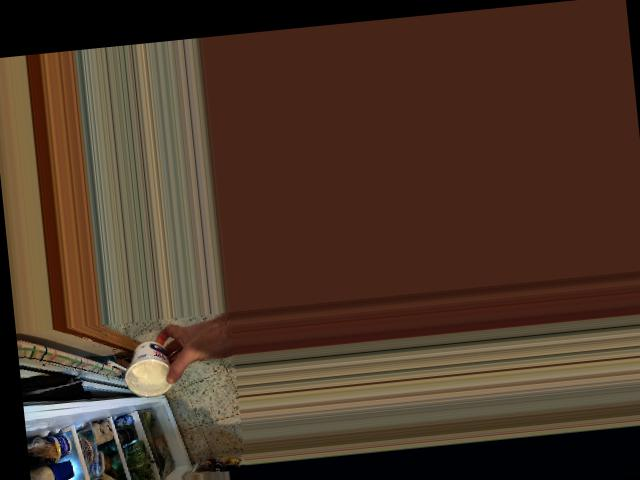cotage: (124, 336, 178, 397)
